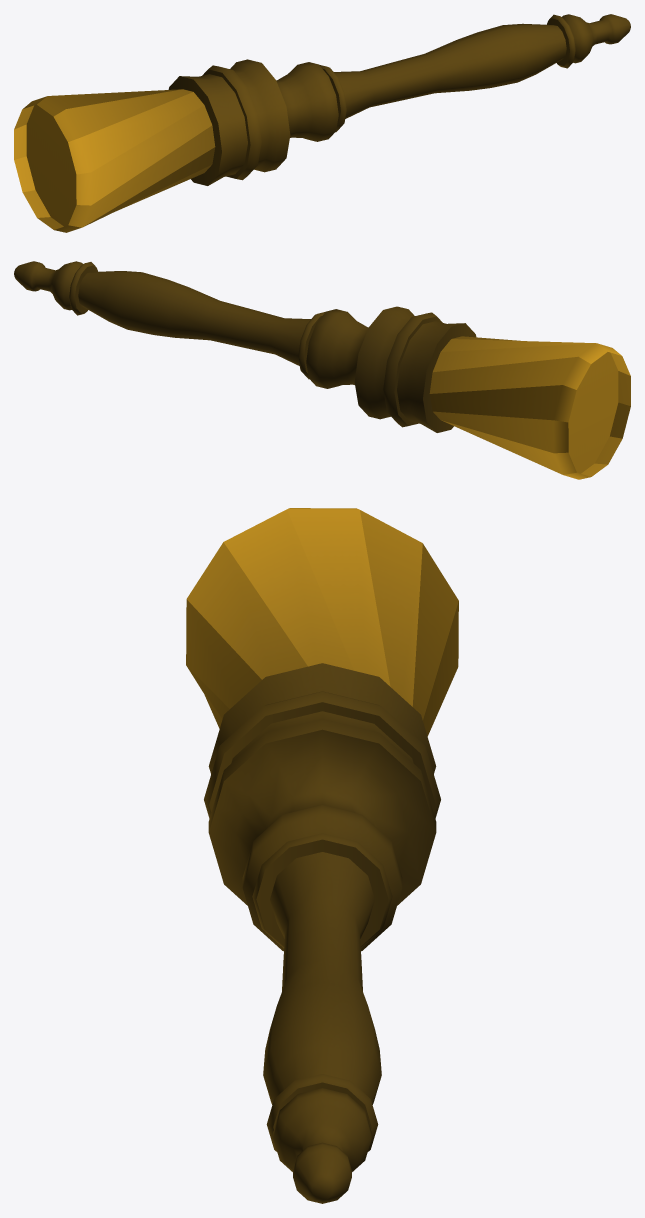
The model's file is Renai_Brush.fbx.
3 renders of one model, top to bottom at view 1: azimuth 30°, elevation 25°; view 2: azimuth 150°, elevation 25°; view 3: azimuth 270°, elevation 25°, orthographic. The views are drawn at different scales.
Parts seen in each view (by area): view 1: Brush; view 2: Brush; view 3: Brush.
Boxes of the visible parts, left/top/right/bottom form: Brush: left=14, top=14, right=630, bottom=232; Brush: left=14, top=261, right=630, bottom=479; Brush: left=186, top=508, right=458, bottom=1203.
Bounding box in the file's own units: 1.92 × 0.389 × 0.389.
Materials: 1 (1 with a texture image).
